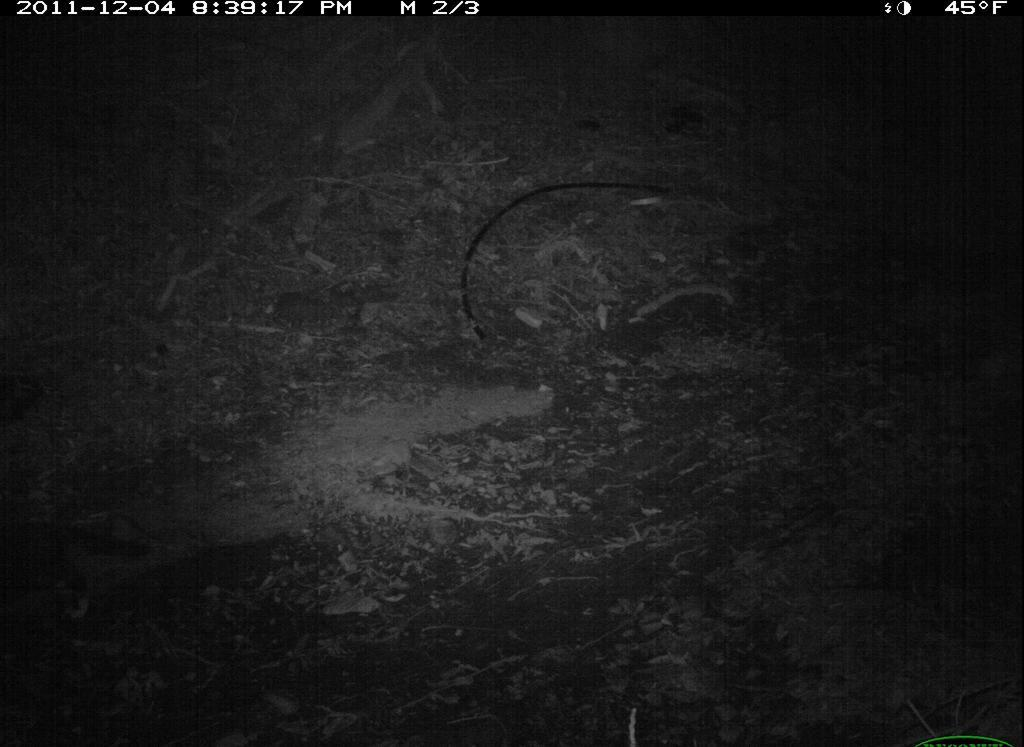cat: (1, 514, 161, 635)
